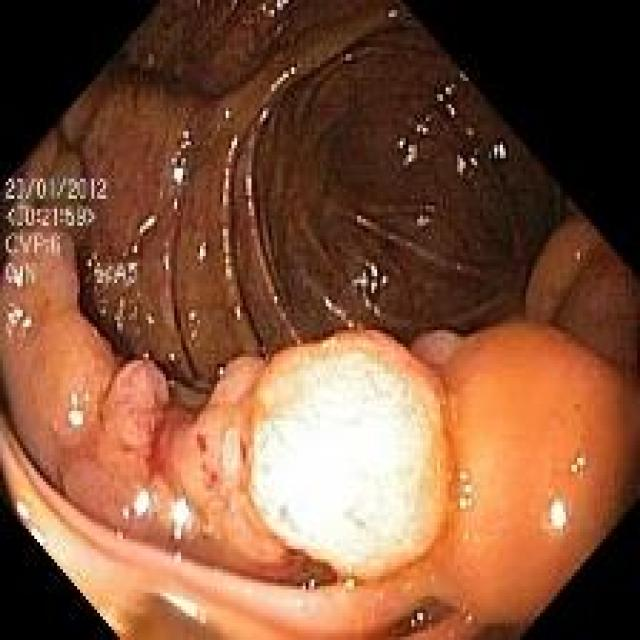Polyps: (0, 236, 640, 639), (249, 333, 448, 578)
